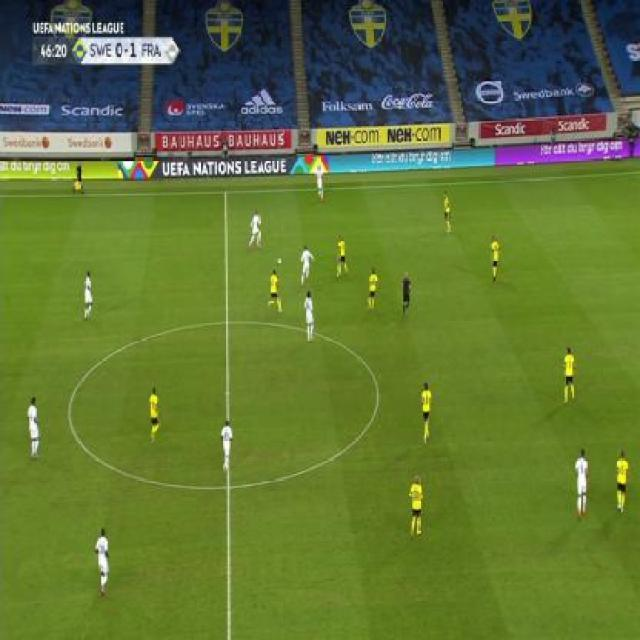ball: (276, 257, 281, 265)
player: (93, 526, 112, 597), (612, 448, 631, 516), (573, 447, 590, 521), (408, 473, 425, 538), (26, 395, 43, 460), (418, 380, 434, 445), (561, 345, 578, 405), (147, 385, 163, 444), (218, 416, 234, 473), (266, 269, 283, 314), (299, 244, 316, 286), (303, 290, 316, 343), (82, 269, 95, 322), (248, 208, 264, 250), (366, 266, 380, 312), (400, 270, 413, 319), (335, 234, 349, 277), (490, 233, 501, 284), (315, 162, 326, 201), (73, 161, 86, 194), (443, 189, 452, 234)
